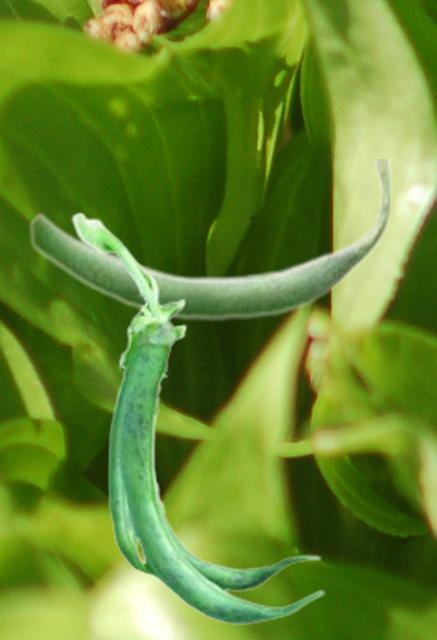french_bean: (70, 211, 324, 625), (28, 159, 393, 322)
